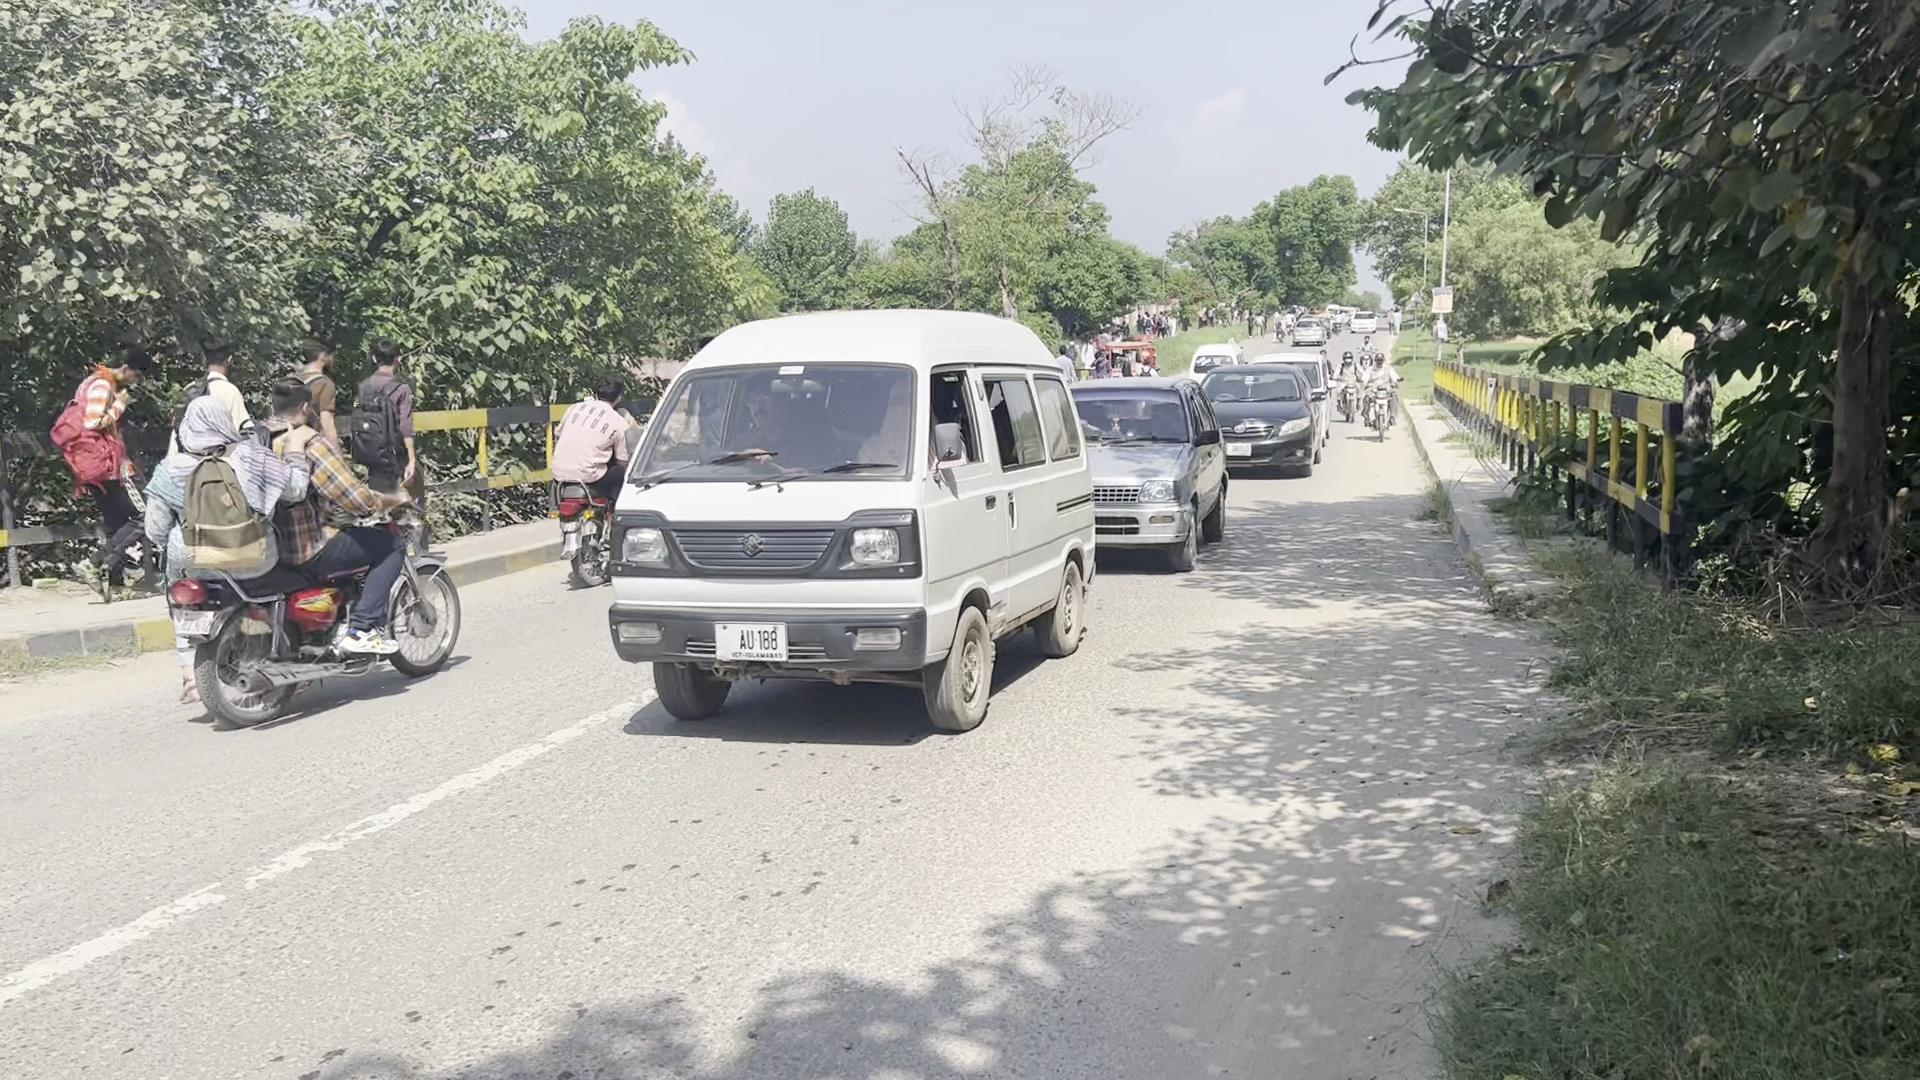windshield: (624, 356, 924, 487)
